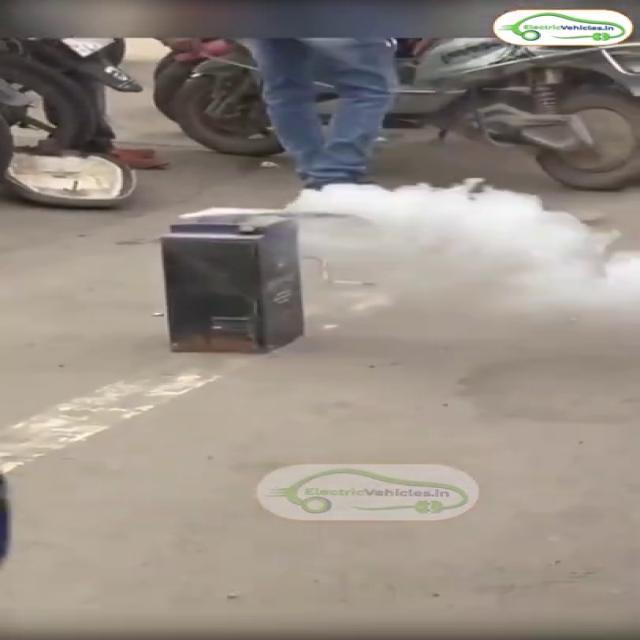Smoke: (282, 162, 638, 344)
